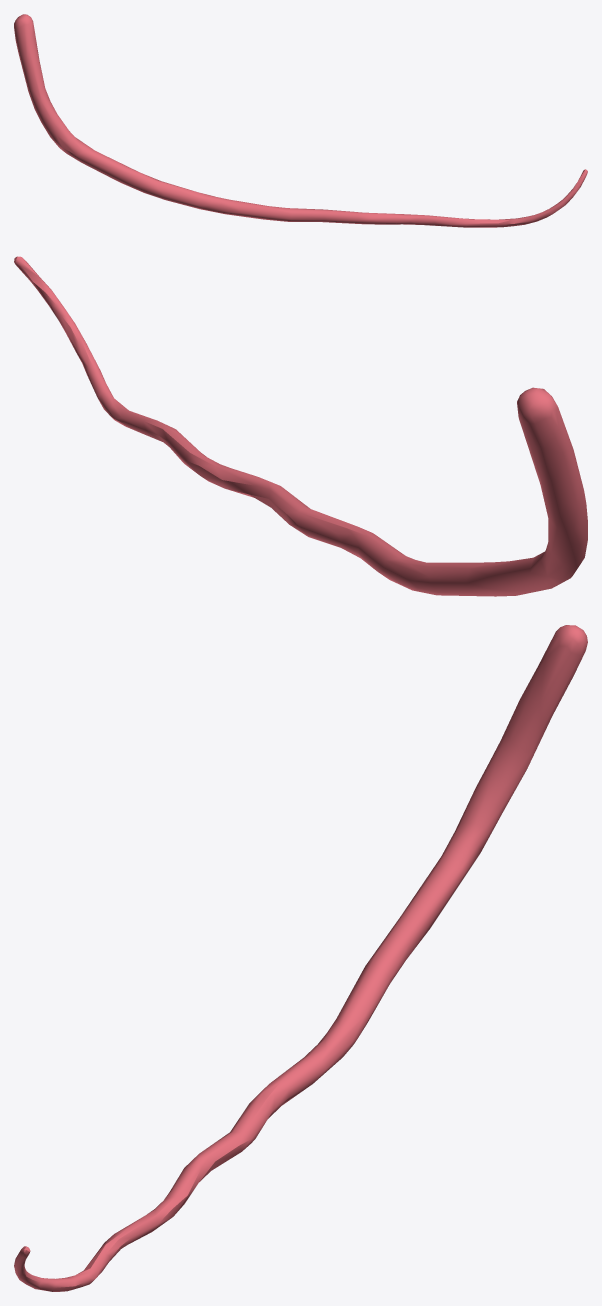
Rendered from fma4713_fj2678.glb.
3 renders of one model, top to bottom at view 1: azimuth 30°, elevation 25°; view 2: azimuth 150°, elevation 25°; view 3: azimuth 270°, elevation 25°, orthographic. The views are drawn at different scales.
Visible parts, largest first — view 1: FMA4713_FJ2678; view 2: FMA4713_FJ2678; view 3: FMA4713_FJ2678.
Boxes of the visible parts, x1,y1,x2,y2 form: FMA4713_FJ2678: [14, 14, 587, 227]; FMA4713_FJ2678: [14, 256, 587, 596]; FMA4713_FJ2678: [14, 625, 587, 1291].
Bounding box in the file's own units: 0.069 × 0.0308 × 0.045.
